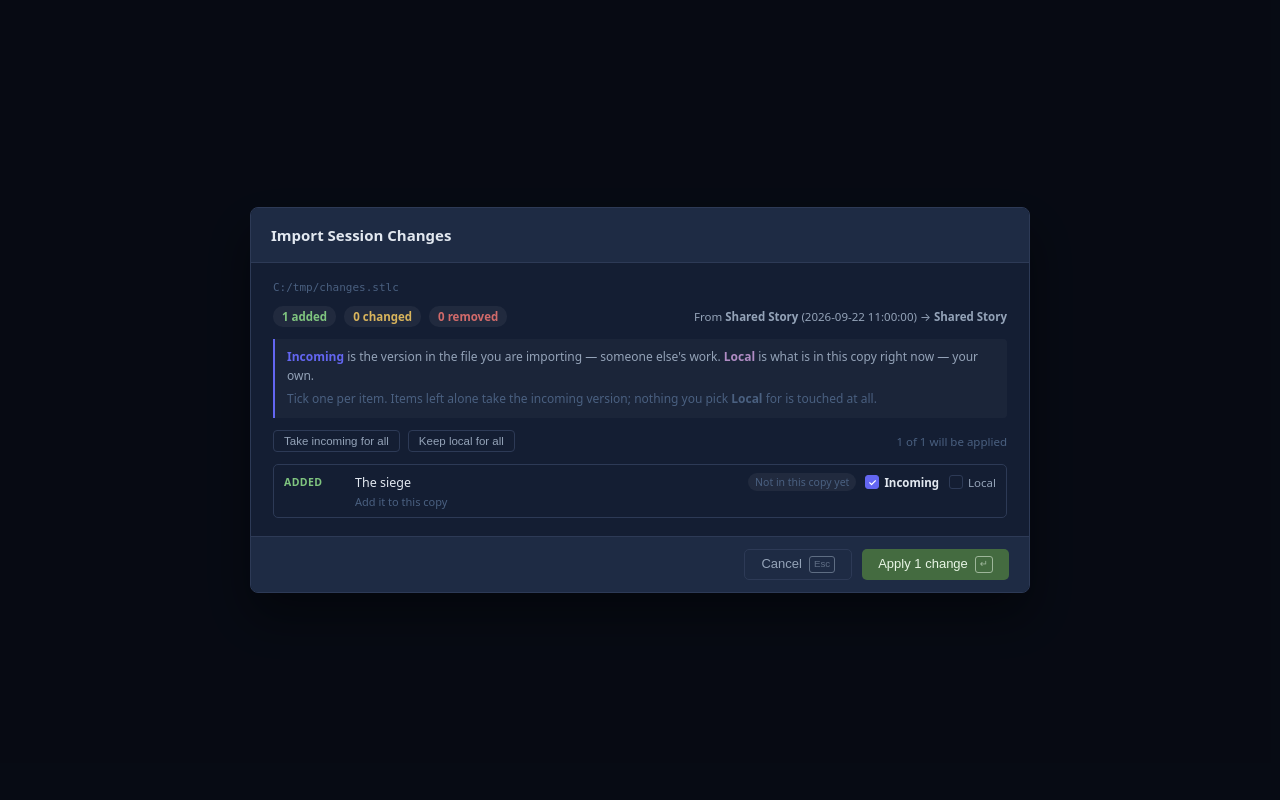
SessionChangesImportModal › lets an item that is missing here be declined
expect the text with class "entry-meaning" reads "Add it to this copy": met, box [355, 494, 447, 509]
Click the radio button labelled "✓ Local": x=973, y=482 [949, 475, 996, 490]
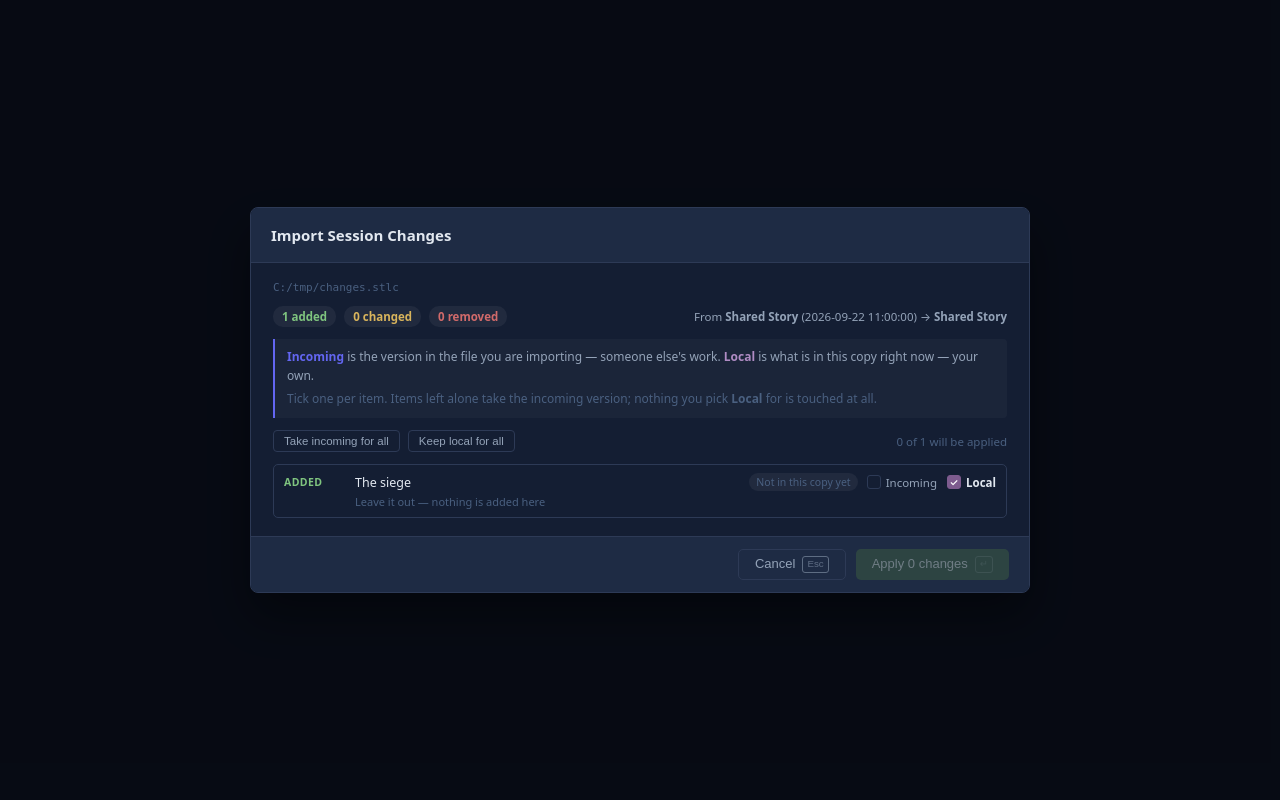
expect the text with class "entry-meaning" reads "Leave it out — nothing is added here": met, box [355, 494, 545, 509]
expect the button "Apply 0 changes" is disabled: met, box [856, 549, 1009, 580]
